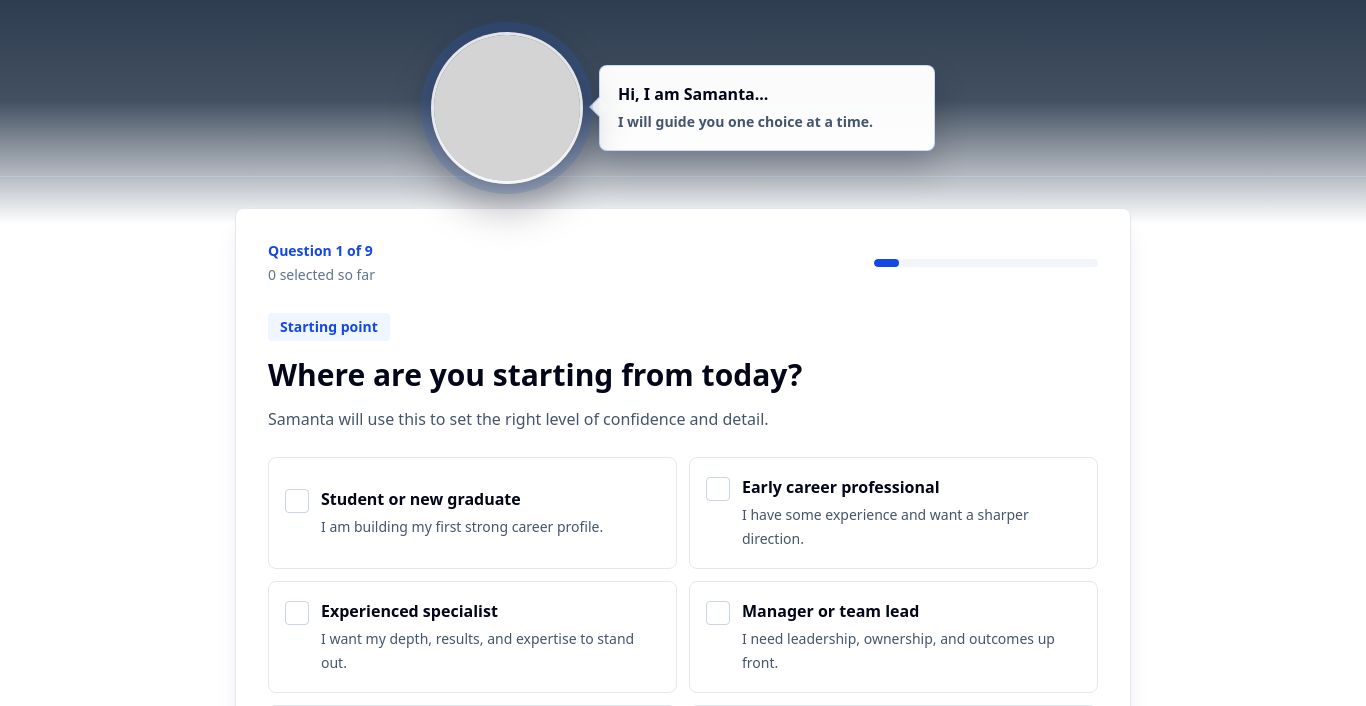
Test: UserOnboarding › advances through questions one at a time
Click the button "Early career professional".
click(894, 513)  # box [689,457,1098,569]
(page scrolled)
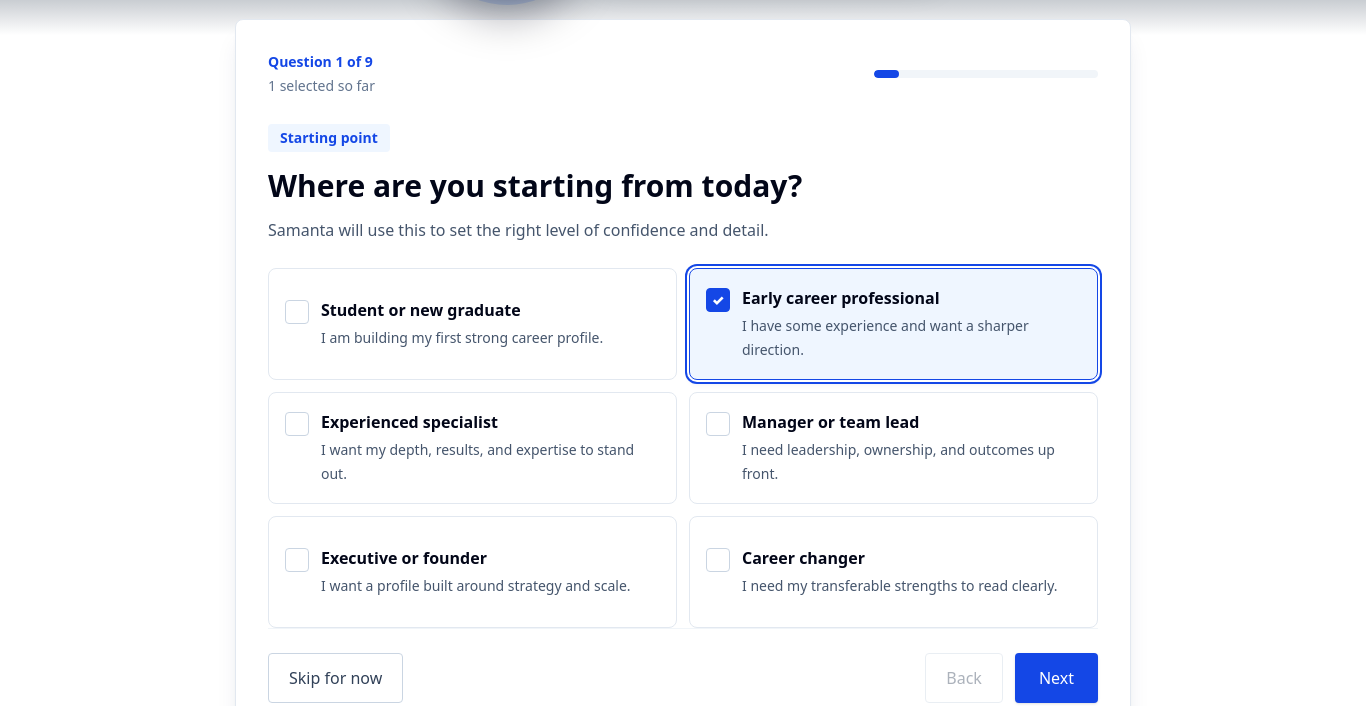
Click the button "Next".
click(1056, 678)  # box [1015,653,1098,703]
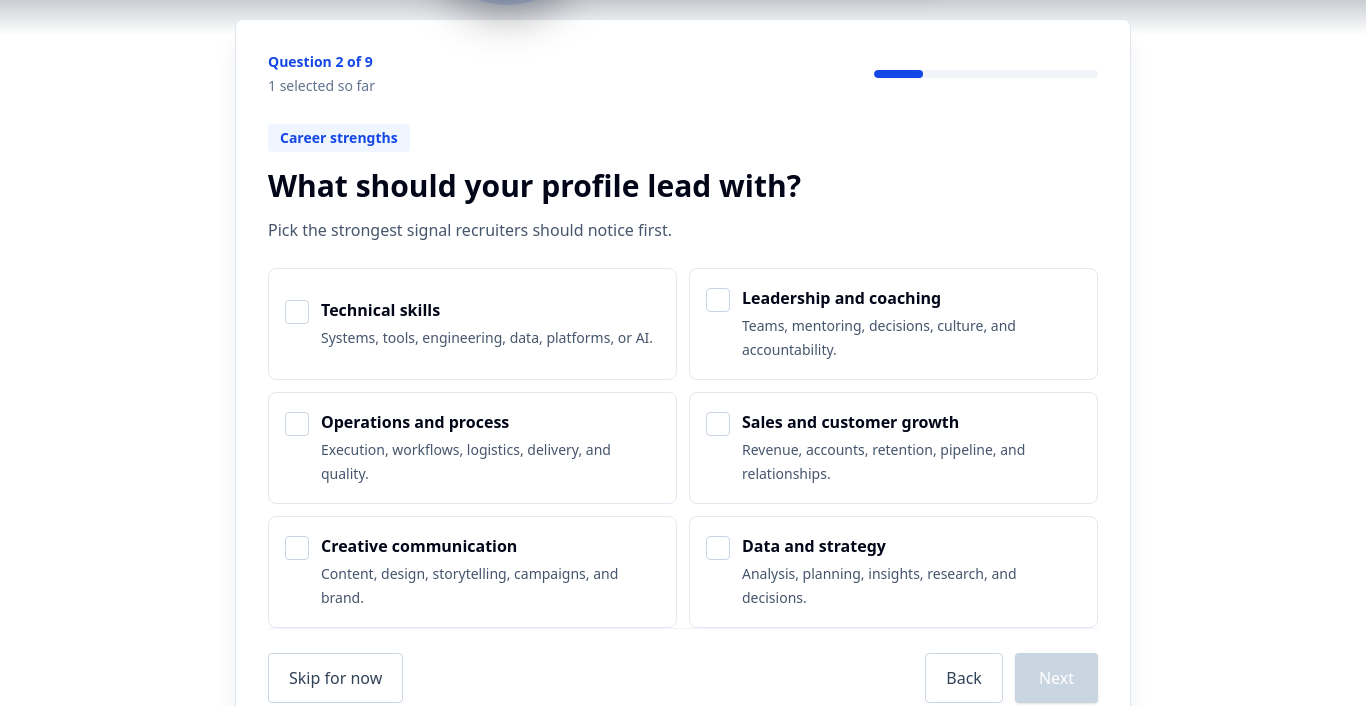
Expected: the heading "What should your profile lead with?" is shown, [268,165,801,206]
Expected: the heading "Where are you starting from today?" is gone
